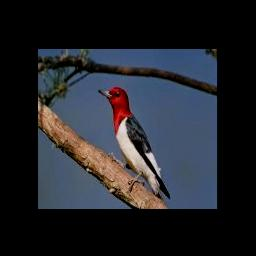Woodpecker: (98, 86, 170, 204)
